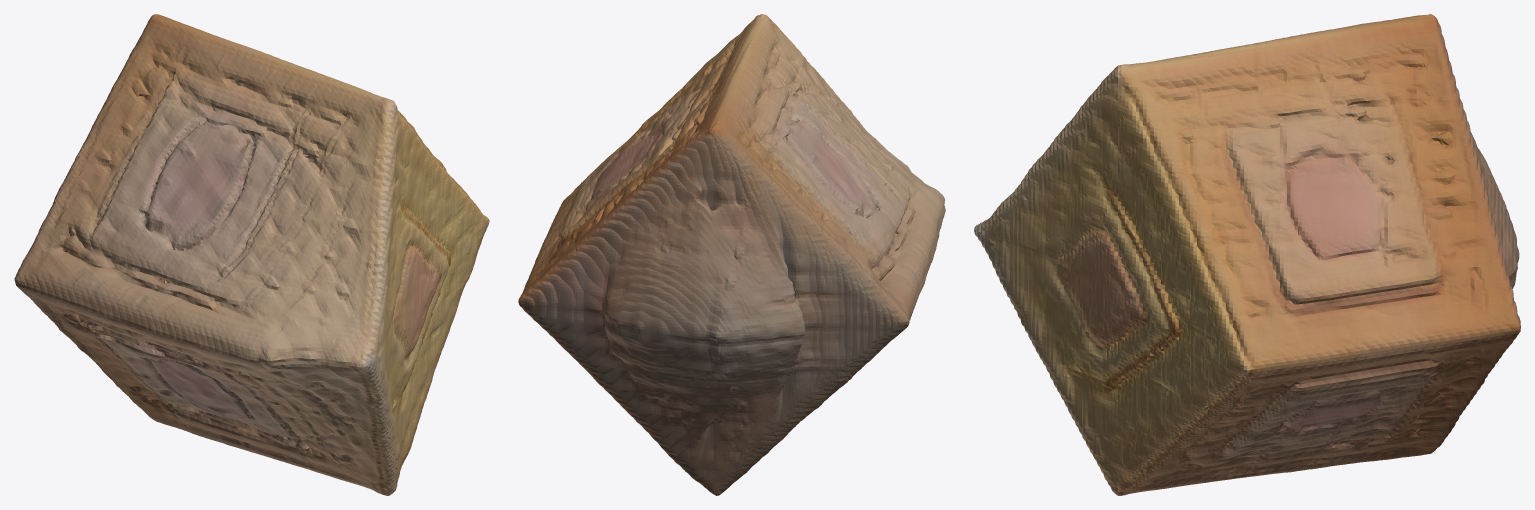
3 views of the same model, side by side, from view 1: azimuth 30°, elevation 25°; view 2: azimuth 150°, elevation 25°; view 3: azimuth 270°, elevation 25° (orthographic). The views are drawn at different scales.
Visible parts, largest first — view 1: world; view 2: world; view 3: world.
Boxes of the visible parts, left/top/right/bottom form: world: left=14, top=14, right=489, bottom=495; world: left=518, top=14, right=945, bottom=495; world: left=974, top=14, right=1520, bottom=495.
Size of the model in its own units: 1.01 by 0.9188 by 1.04.
